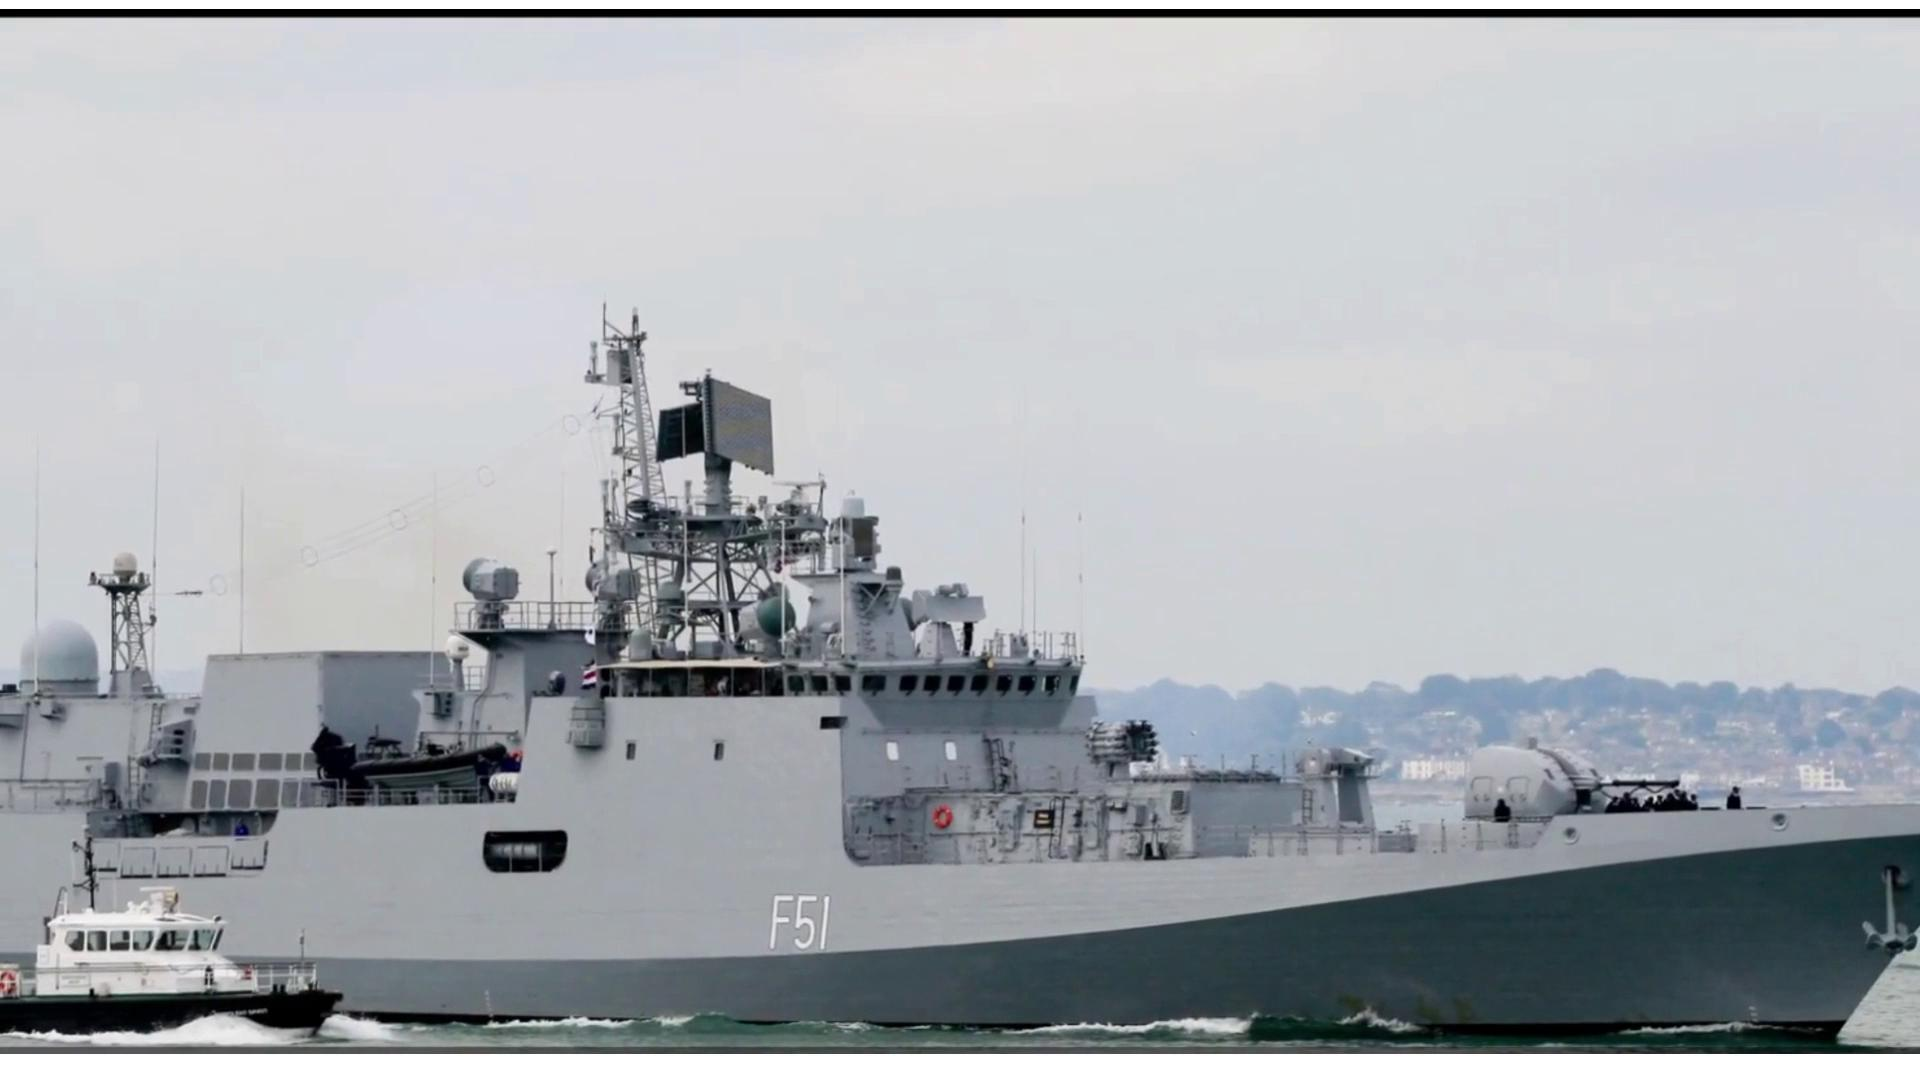OCR: (749, 880, 852, 968)
